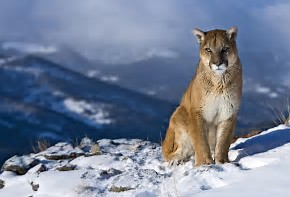Mountain Lion: (190, 26, 246, 79)
